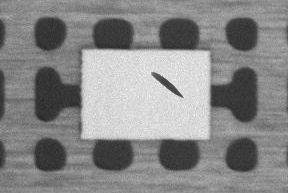DIE_INK: (148, 70, 182, 99)
